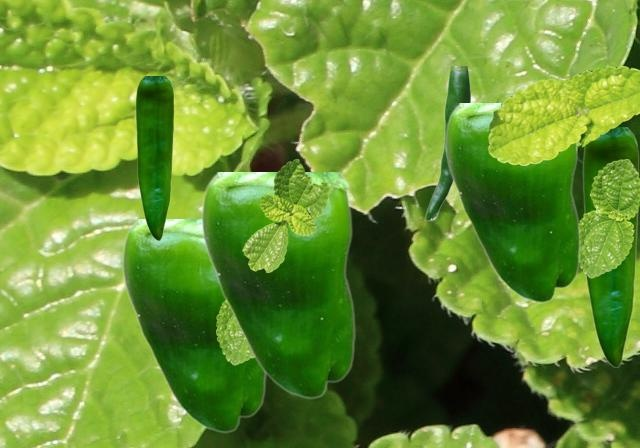green_chili: (200, 172, 354, 398), (121, 219, 265, 432), (444, 103, 579, 302), (582, 127, 638, 366), (424, 66, 469, 220), (135, 76, 173, 239)
